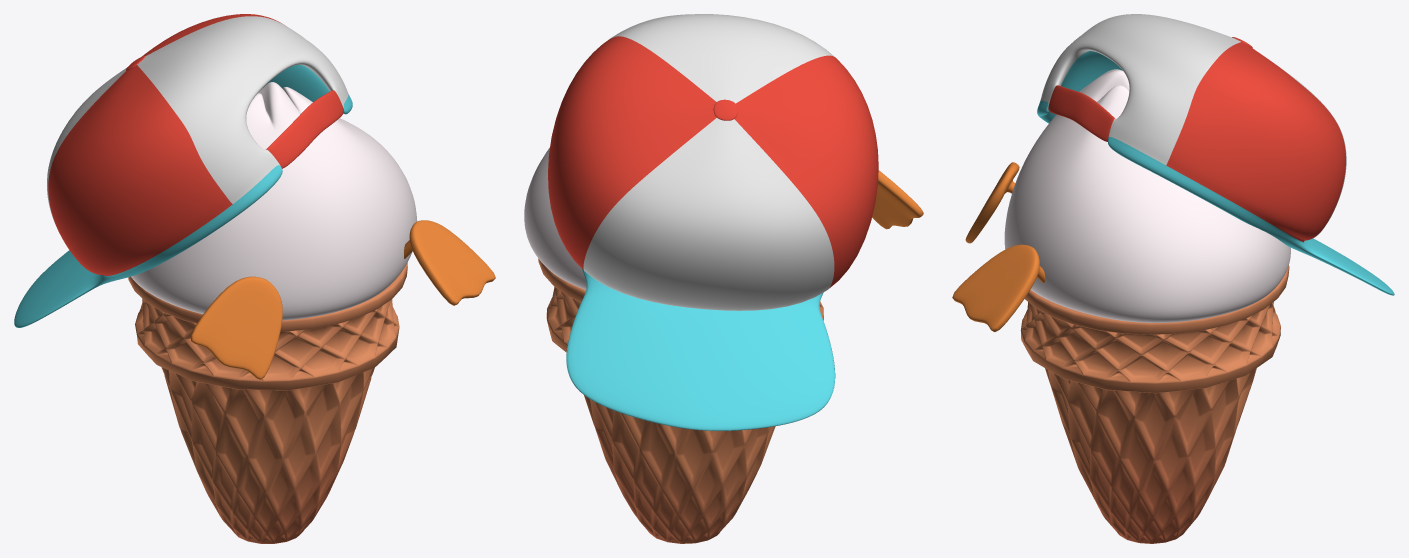
File: duck_ice_cream.glb
The picture shows the model from 3 angles, left to right: view 1: azimuth 30°, elevation 25°; view 2: azimuth 150°, elevation 25°; view 3: azimuth 270°, elevation 25°; orthographic projection. The views are drawn at different scales.
Parts seen in each view (by area): view 1: hat_9, cone_6, hip_10, feet.001_8, feet_7; view 2: hat_9, cone_6, hip_10, feet.001_8; view 3: hat_9, cone_6, hip_10, feet_7, feet.001_8.
Boxes of the visible parts, <box> form: hat_9: <box>14,14,352,327</box>; cone_6: <box>128,263,407,543</box>; hip_10: <box>131,82,417,320</box>; feet.001_8: <box>190,276,282,379</box>; feet_7: <box>404,220,495,305</box>; hat_9: <box>548,14,878,430</box>; cone_6: <box>538,258,823,543</box>; hip_10: <box>524,147,586,289</box>; feet.001_8: <box>872,170,923,229</box>; hat_9: <box>1037,14,1394,295</box>; cone_6: <box>1020,265,1289,543</box>; hip_10: <box>1004,69,1290,322</box>; feet_7: <box>952,244,1045,331</box>; feet.001_8: <box>965,162,1019,243</box>.
Size of the model in its own units: 2.85 by 3.98 by 3.27.
6 materials, 1 textured.
